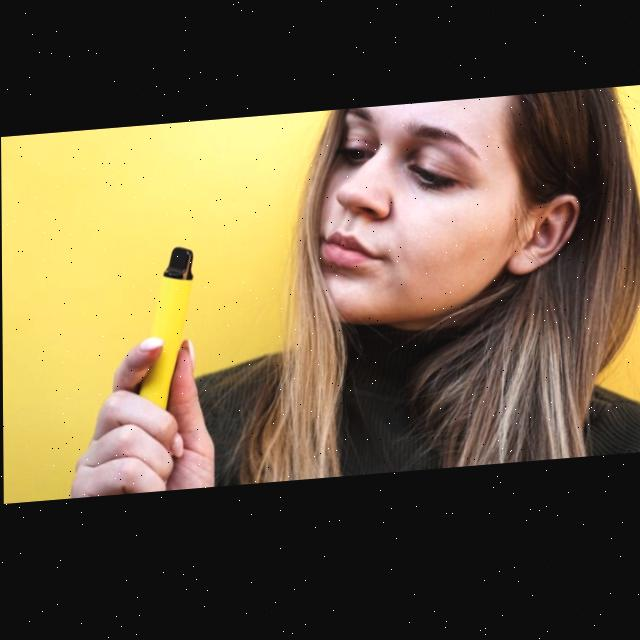vape: (138, 248, 194, 413)
